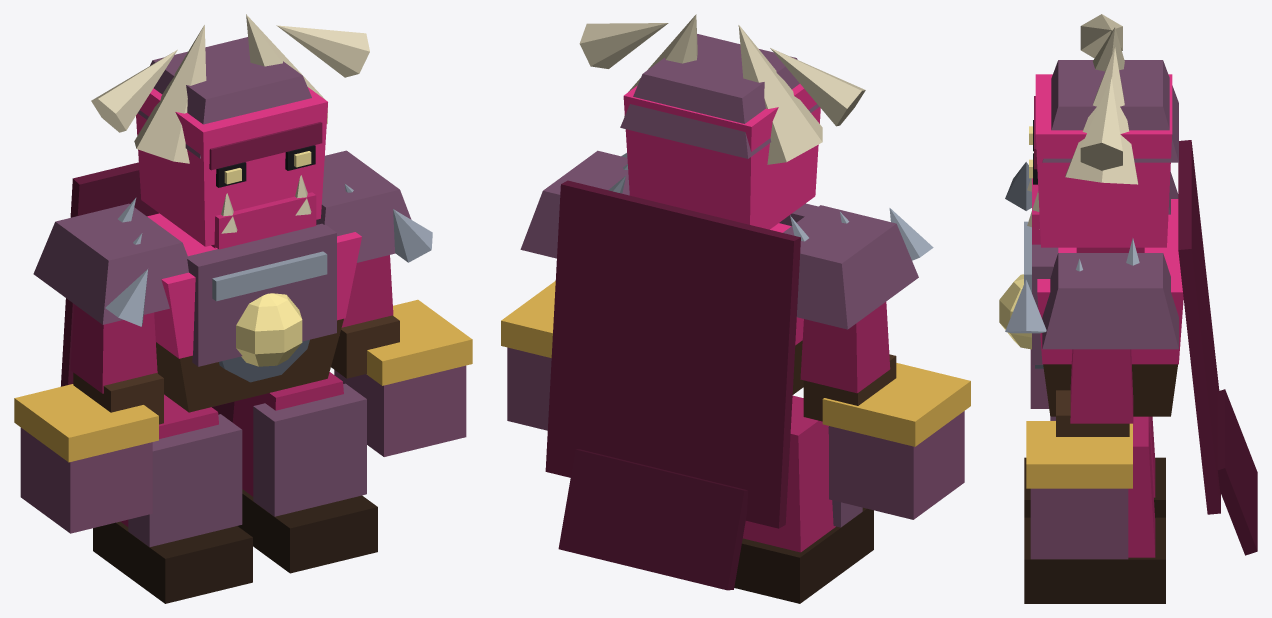
File: enemy_boss.glb
3 views of the same model, side by side, from view 1: azimuth 30°, elevation 25°; view 2: azimuth 150°, elevation 25°; view 3: azimuth 270°, elevation 25° (orthographic). The views are drawn at different scales.
Visible parts, largest first — view 1: enemy_boss; view 2: enemy_boss; view 3: enemy_boss.
Part boxes in pixels (box(x1,y1,x2,y2)): enemy_boss: box(14, 14, 472, 603); enemy_boss: box(501, 14, 970, 603); enemy_boss: box(999, 14, 1257, 603).
Size of the model in its own units: 1.03 by 1.28 by 0.5814.
